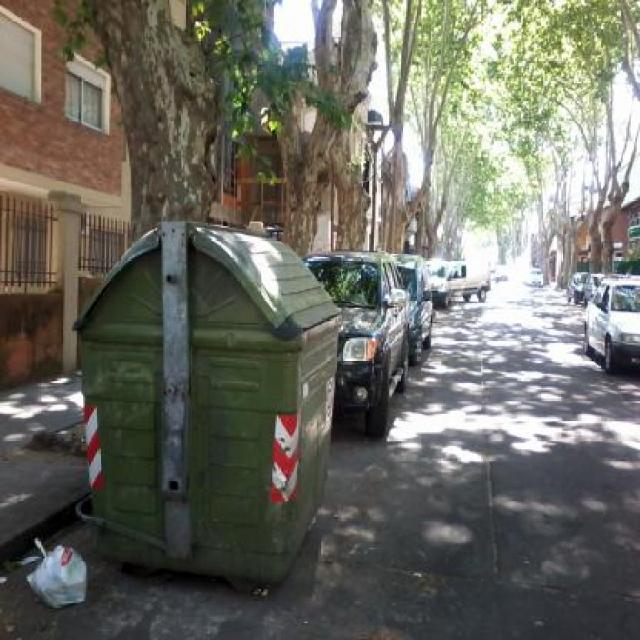garbage: (19, 537, 103, 614)
